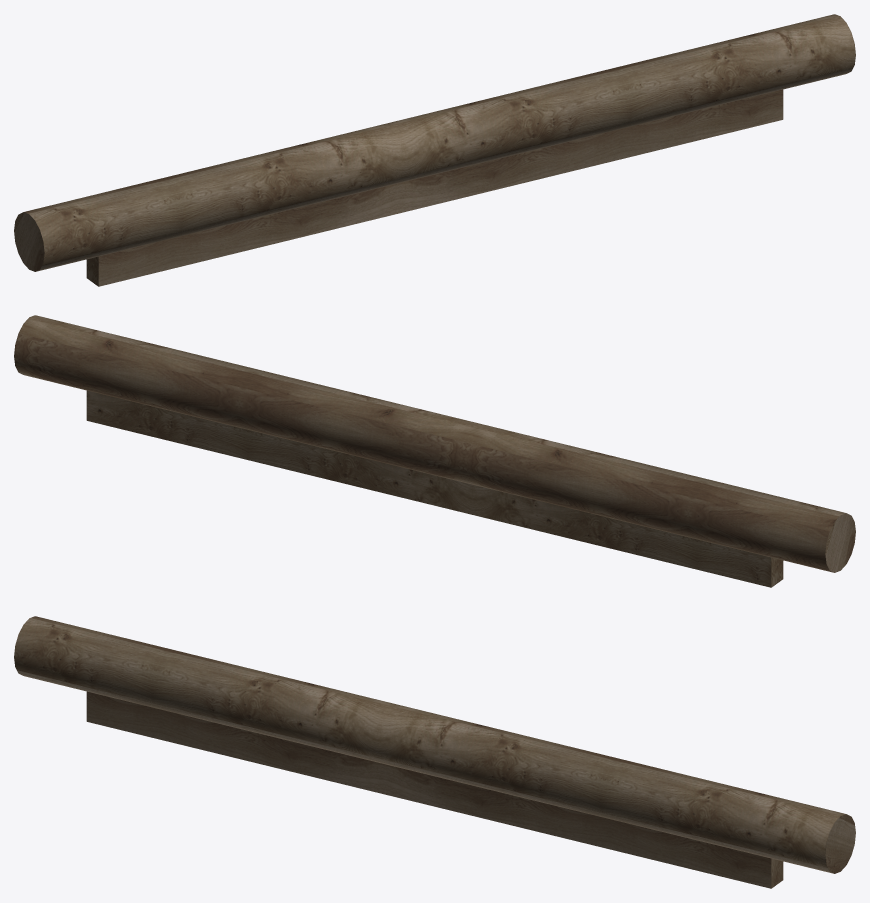
Rendered from SM_Sun_Won_Dori_C.fbx.
3 renders of one model, top to bottom at view 1: azimuth 30°, elevation 25°; view 2: azimuth 150°, elevation 25°; view 3: azimuth 330°, elevation 25°, orthographic.
Visible parts, largest first — view 1: SM_Sun_Won_Dori_C; view 2: SM_Sun_Won_Dori_C; view 3: SM_Sun_Won_Dori_C.
Part boxes in pixels (x1,y1,x2,y2): SM_Sun_Won_Dori_C: (14,14,855,286); SM_Sun_Won_Dori_C: (14,315,855,587); SM_Sun_Won_Dori_C: (14,616,855,888).
Size of the model in its own units: 428 by 42.18 by 28.
